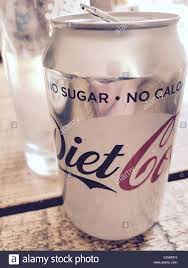can: (39, 1, 187, 244)
